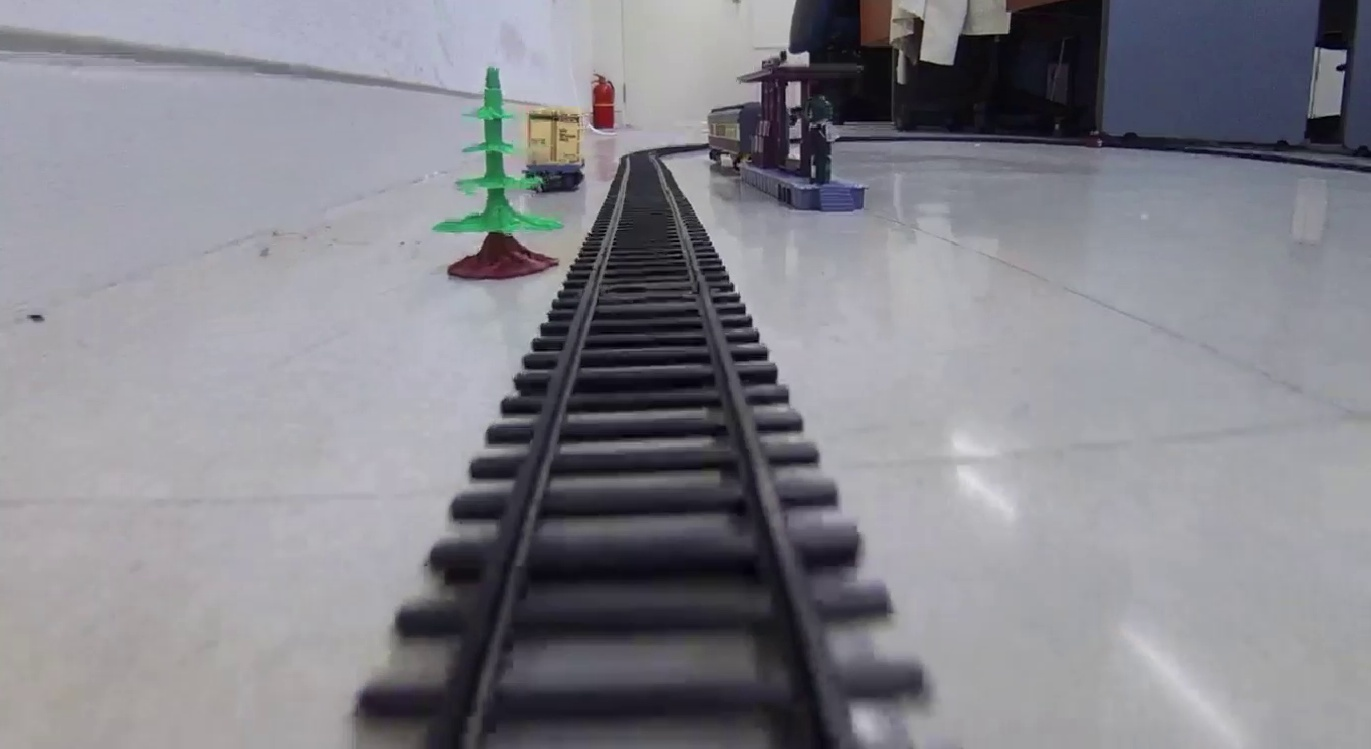tree: (432, 66, 567, 280)
